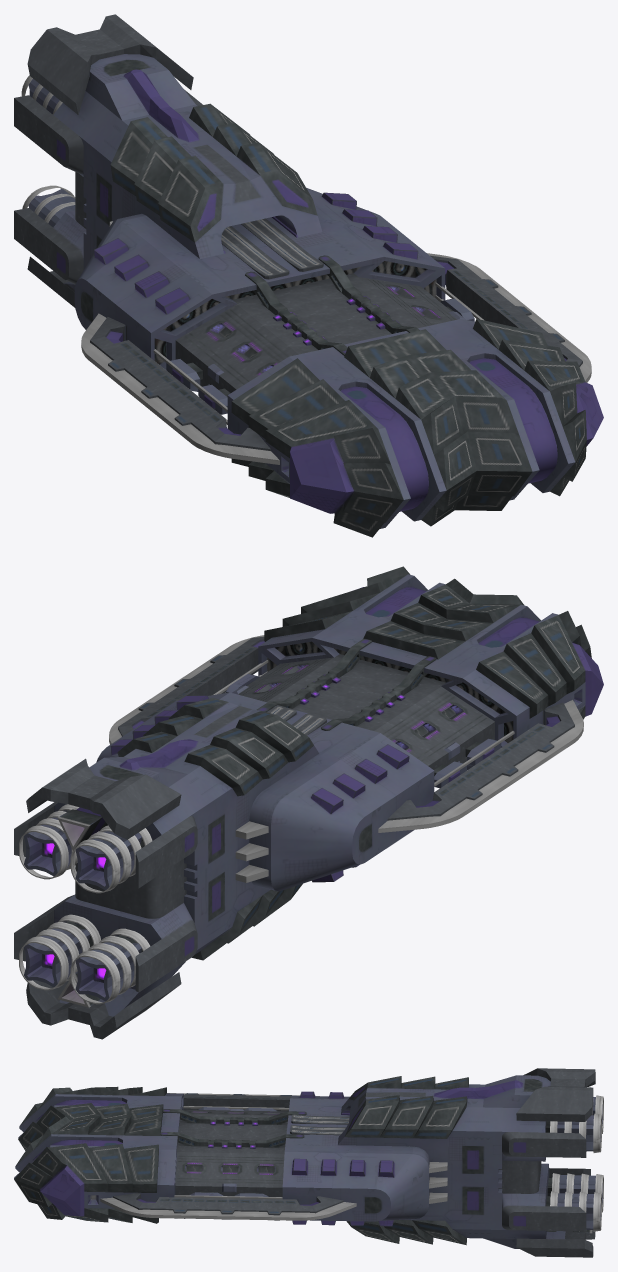
File: watson.glb
3 renders of one model, top to bottom at view 1: azimuth 30°, elevation 25°; view 2: azimuth 150°, elevation 25°; view 3: azimuth 270°, elevation 25°, orthographic. The views are drawn at different scales.
Parts seen in each view (by area): view 1: MeshLP, Cylinder.001; view 2: MeshLP, Cylinder.001; view 3: MeshLP, Cylinder.001.
Part boxes in pixels (x1,y1,x2,y2): MeshLP: (14,14,603,537); Cylinder.001: (21,75,75,223); MeshLP: (14,566,603,1039); Cylinder.001: (19,804,152,1004); MeshLP: (14,1068,602,1257); Cylinder.001: (550,1095,603,1231).
Size of the model in its own units: 8.17 by 5.1 by 16.33.
2 materials, 2 textured.
